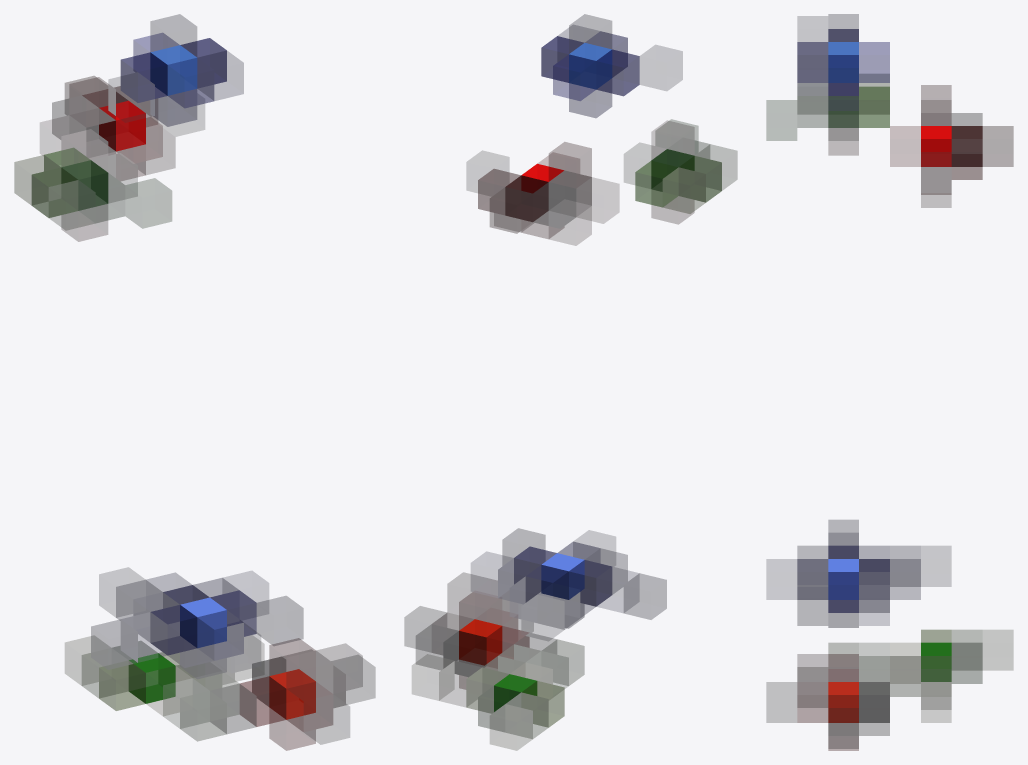
The model's file is iter_5.obj.
3 views of the same model, side by side, from view 1: azimuth 30°, elevation 25°; view 2: azimuth 150°, elevation 25°; view 3: azimuth 270°, elevation 25° (orthographic). The views are drawn at different scales.
Visible parts, largest first — view 1: iter_5; view 2: iter_5; view 3: iter_5.
Boxes of the visible parts, x1,y1,x2,y2 form: iter_5: (14, 14, 375, 750); iter_5: (404, 14, 737, 750); iter_5: (766, 14, 1013, 750).
Size of the model in its own units: 1.1 by 2.4 by 0.8.
